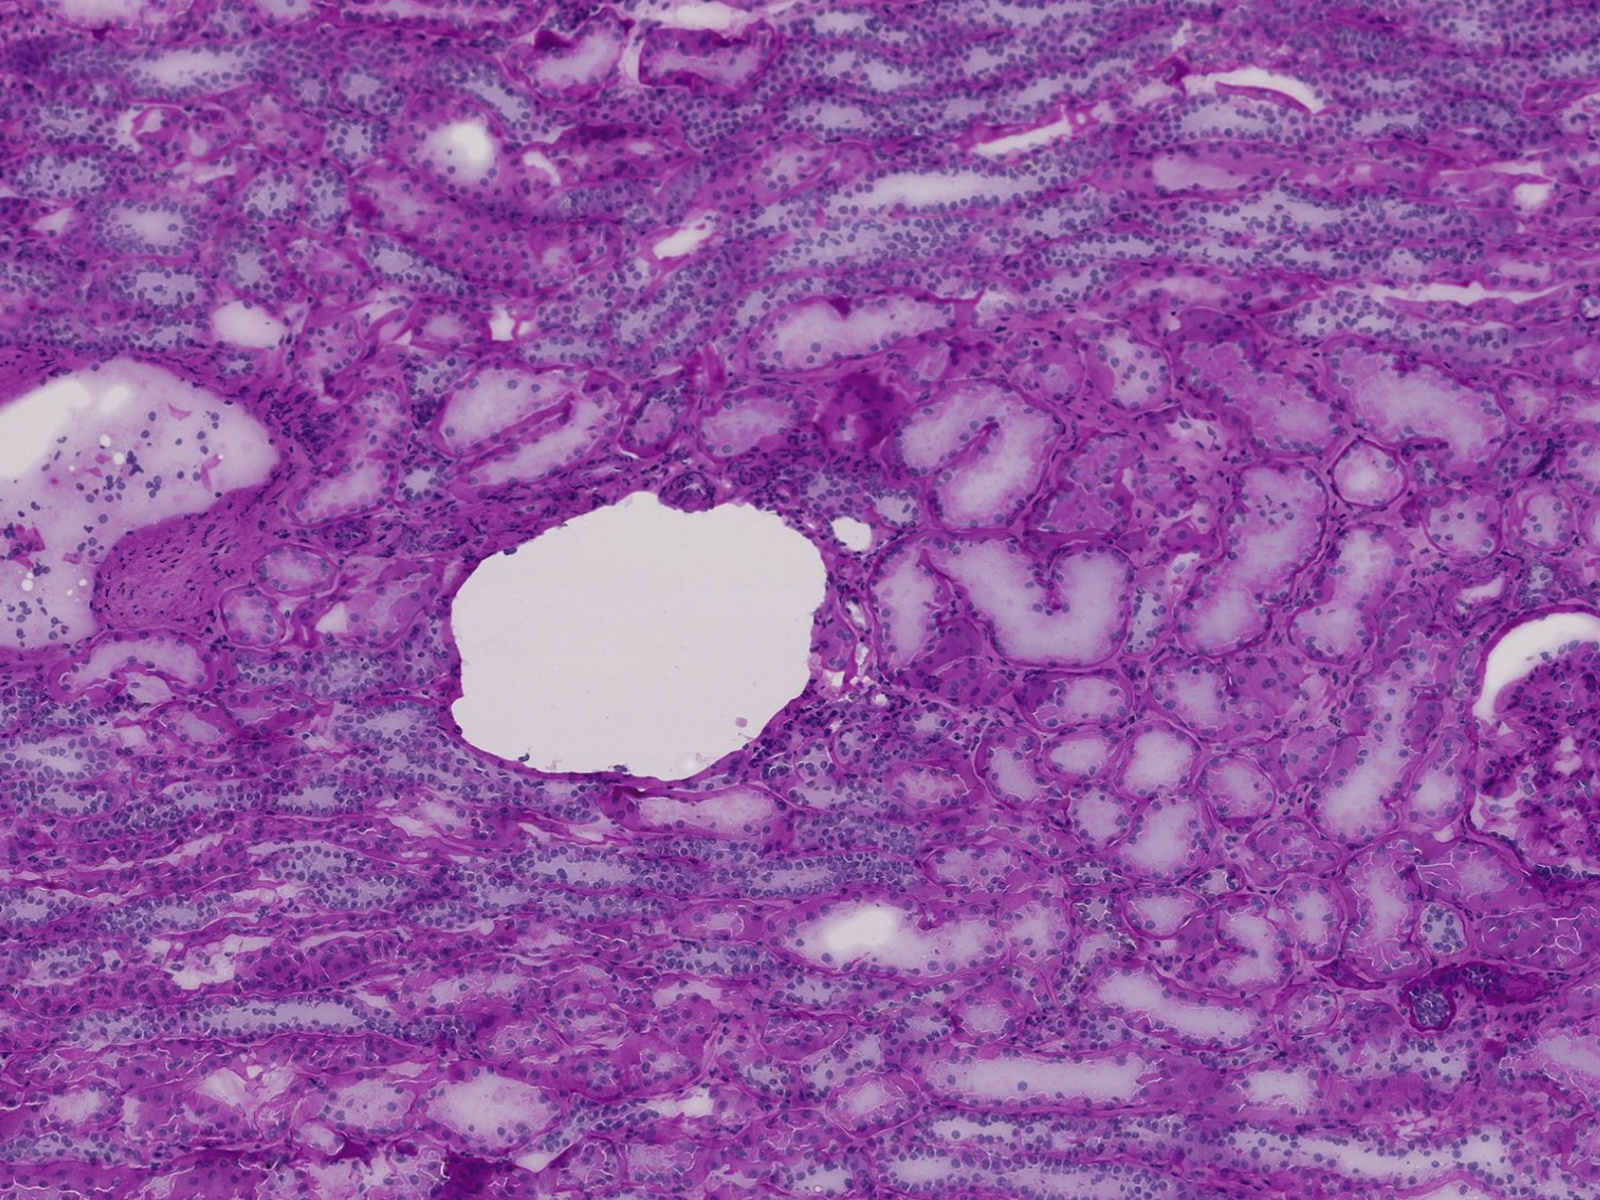Glomeruli: (1461, 616, 1600, 882)
